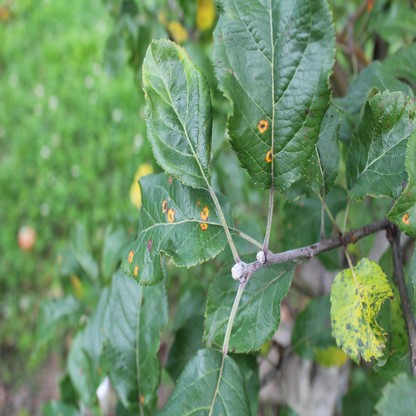rust: (201, 207, 208, 229), (257, 119, 268, 131), (402, 211, 409, 224), (168, 209, 174, 222), (128, 251, 133, 264), (266, 149, 271, 161), (148, 240, 153, 252), (139, 393, 144, 404), (162, 200, 166, 211), (134, 266, 138, 276), (168, 175, 172, 184), (197, 200, 199, 205)
